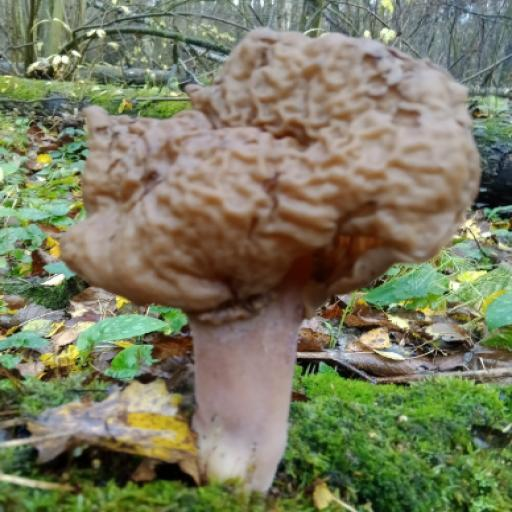mushroom: (72, 27, 483, 413)
